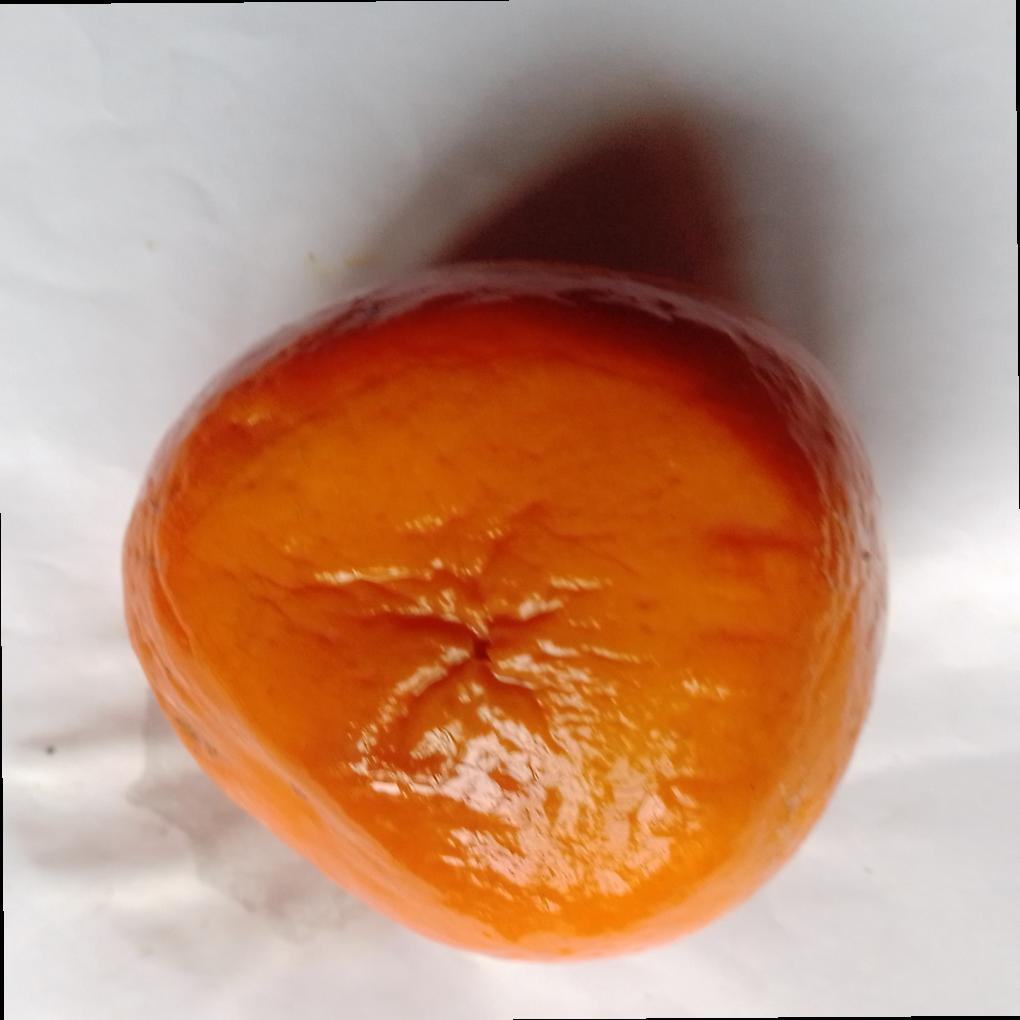FreshOrange: (120, 261, 891, 966)
